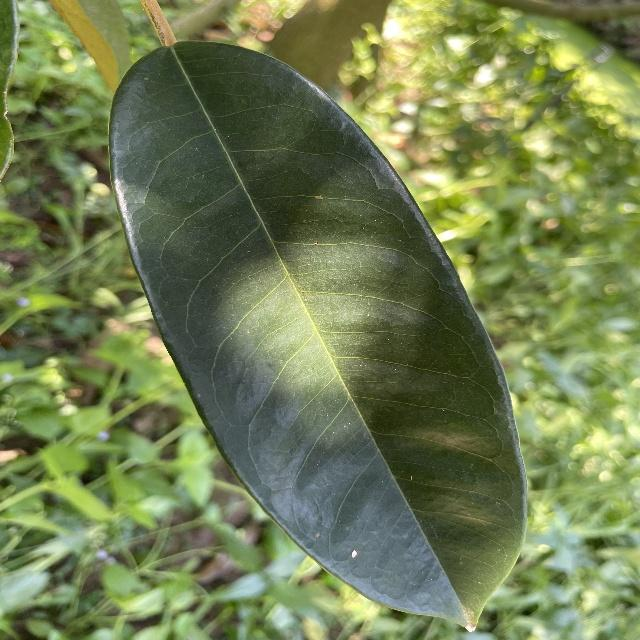No Disease: (103, 29, 538, 640)
